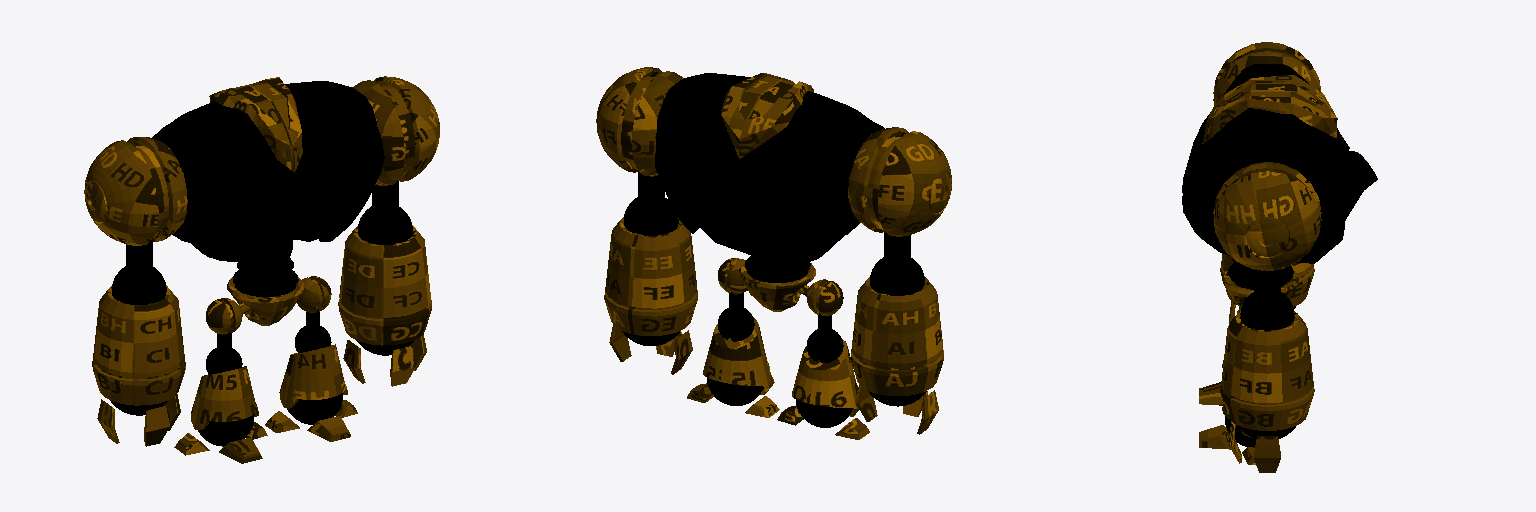
The picture shows the model from 3 angles: view 1: azimuth 30°, elevation 25°; view 2: azimuth 150°, elevation 25°; view 3: azimuth 270°, elevation 25°; orthographic projection.
Visible parts, largest first — view 1: Torso Upper_Torso Upper_Torso Upper_Torso Upper_Torso, Right_Shoulder Right_Shoulder Right_Arm, Left_Arm Left_Forearm, Right_Arm Right_Forearm Right_Forearm, Left_Shoulder Left_Arm, Upper_Torso Upper_Torso Upper_Torso Upper_Torso Head, Right_Leg Right_Calf Right_Calf Right_Calf, Left_Leg left_Calf, Abs Lower_Torso, Lower_Torso Hips, Left_Arm Left_Elbow, Right_Arm Right_Elbow Right_Elbow (+13 smaller); view 2: Torso Upper_Torso Upper_Torso Upper_Torso Upper_Torso, Right_Shoulder Right_Shoulder Right_Arm, Right_Arm Right_Forearm Right_Forearm, Left_Arm Left_Forearm, Left_Shoulder Left_Arm, Upper_Torso Upper_Torso Upper_Torso Upper_Torso Head, Left_Leg left_Calf, Right_Leg Right_Calf Right_Calf Right_Calf, Lower_Torso Hips, Right_Arm Right_Elbow Right_Elbow, Left_Arm Left_Elbow, Abs Lower_Torso (+9 smaller); view 3: Torso Upper_Torso Upper_Torso Upper_Torso Upper_Torso, Left_Shoulder Left_Arm, Left_Arm Left_Forearm, Upper_Torso Upper_Torso Upper_Torso Upper_Torso Head, Right_Shoulder Right_Shoulder Right_Arm, Left_Arm Left_Elbow, Left_Arm Left_Claw03, Right_Arm Right_Forearm Right_Forearm, Left_Arm Left_Bicep, Abs Lower_Torso, Lower_Torso Hips, Left_Leg Left_FootClaw01.
Boxes of the visible parts, x1=… form: Torso Upper_Torso Upper_Torso Upper_Torso Upper_Torso: x1=152, y1=81, x2=384, y2=262; Right_Shoulder Right_Shoulder Right_Arm: x1=84, y1=137, x2=187, y2=245; Left_Arm Left_Forearm: x1=338, y1=225, x2=431, y2=345; Right_Arm Right_Forearm Right_Forearm: x1=92, y1=285, x2=185, y2=405; Left_Shoulder Left_Arm: x1=352, y1=76, x2=439, y2=185; Upper_Torso Upper_Torso Upper_Torso Upper_Torso Head: x1=209, y1=77, x2=302, y2=172; Right_Leg Right_Calf Right_Calf Right_Calf: x1=191, y1=366, x2=258, y2=429; Left_Leg left_Calf: x1=279, y1=344, x2=347, y2=408; Abs Lower_Torso: x1=233, y1=241, x2=298, y2=296; Lower_Torso Hips: x1=227, y1=277, x2=303, y2=325; Left_Arm Left_Elbow: x1=358, y1=206, x2=412, y2=244; Right_Arm Right_Elbow Right_Elbow: x1=112, y1=266, x2=166, y2=304; Torso Upper_Torso Upper_Torso Upper_Torso Upper_Torso: x1=655, y1=73, x2=884, y2=261; Right_Shoulder Right_Shoulder Right_Arm: x1=848, y1=127, x2=951, y2=236; Right_Arm Right_Forearm Right_Forearm: x1=850, y1=276, x2=943, y2=395; Left_Arm Left_Forearm: x1=604, y1=217, x2=697, y2=335; Left_Shoulder Left_Arm: x1=596, y1=67, x2=683, y2=176; Upper_Torso Upper_Torso Upper_Torso Upper_Torso Head: x1=721, y1=73, x2=813, y2=159; Left_Leg left_Calf: x1=703, y1=317, x2=770, y2=386; Right_Leg Right_Calf Right_Calf Right_Calf: x1=792, y1=339, x2=858, y2=408; Lower_Torso Hips: x1=739, y1=263, x2=815, y2=311; Right_Arm Right_Elbow Right_Elbow: x1=870, y1=257, x2=924, y2=295; Left_Arm Left_Elbow: x1=624, y1=197, x2=678, y2=235; Abs Lower_Torso: x1=745, y1=255, x2=810, y2=282; Torso Upper_Torso Upper_Torso Upper_Torso Upper_Torso: x1=1182, y1=64, x2=1377, y2=263; Left_Shoulder Left_Arm: x1=1213, y1=162, x2=1321, y2=270; Left_Arm Left_Forearm: x1=1220, y1=311, x2=1314, y2=430; Upper_Torso Upper_Torso Upper_Torso Upper_Torso Head: x1=1202, y1=75, x2=1337, y2=143; Right_Shoulder Right_Shoulder Right_Arm: x1=1213, y1=42, x2=1320, y2=104; Left_Arm Left_Elbow: x1=1240, y1=292, x2=1294, y2=330; Left_Arm Left_Claw03: x1=1254, y1=436, x2=1280, y2=472; Right_Arm Right_Forearm Right_Forearm: x1=1220, y1=253, x2=1314, y2=306; Left_Arm Left_Bicep: x1=1254, y1=270, x2=1280, y2=299; Abs Lower_Torso: x1=1227, y1=258, x2=1293, y2=289; Lower_Torso Hips: x1=1222, y1=270, x2=1299, y2=306; Left_Leg Left_FootClaw01: x1=1199, y1=425, x2=1230, y2=449.
Size of the model in its own units: 4.33 by 4.08 by 2.17.
3 materials, 1 textured.